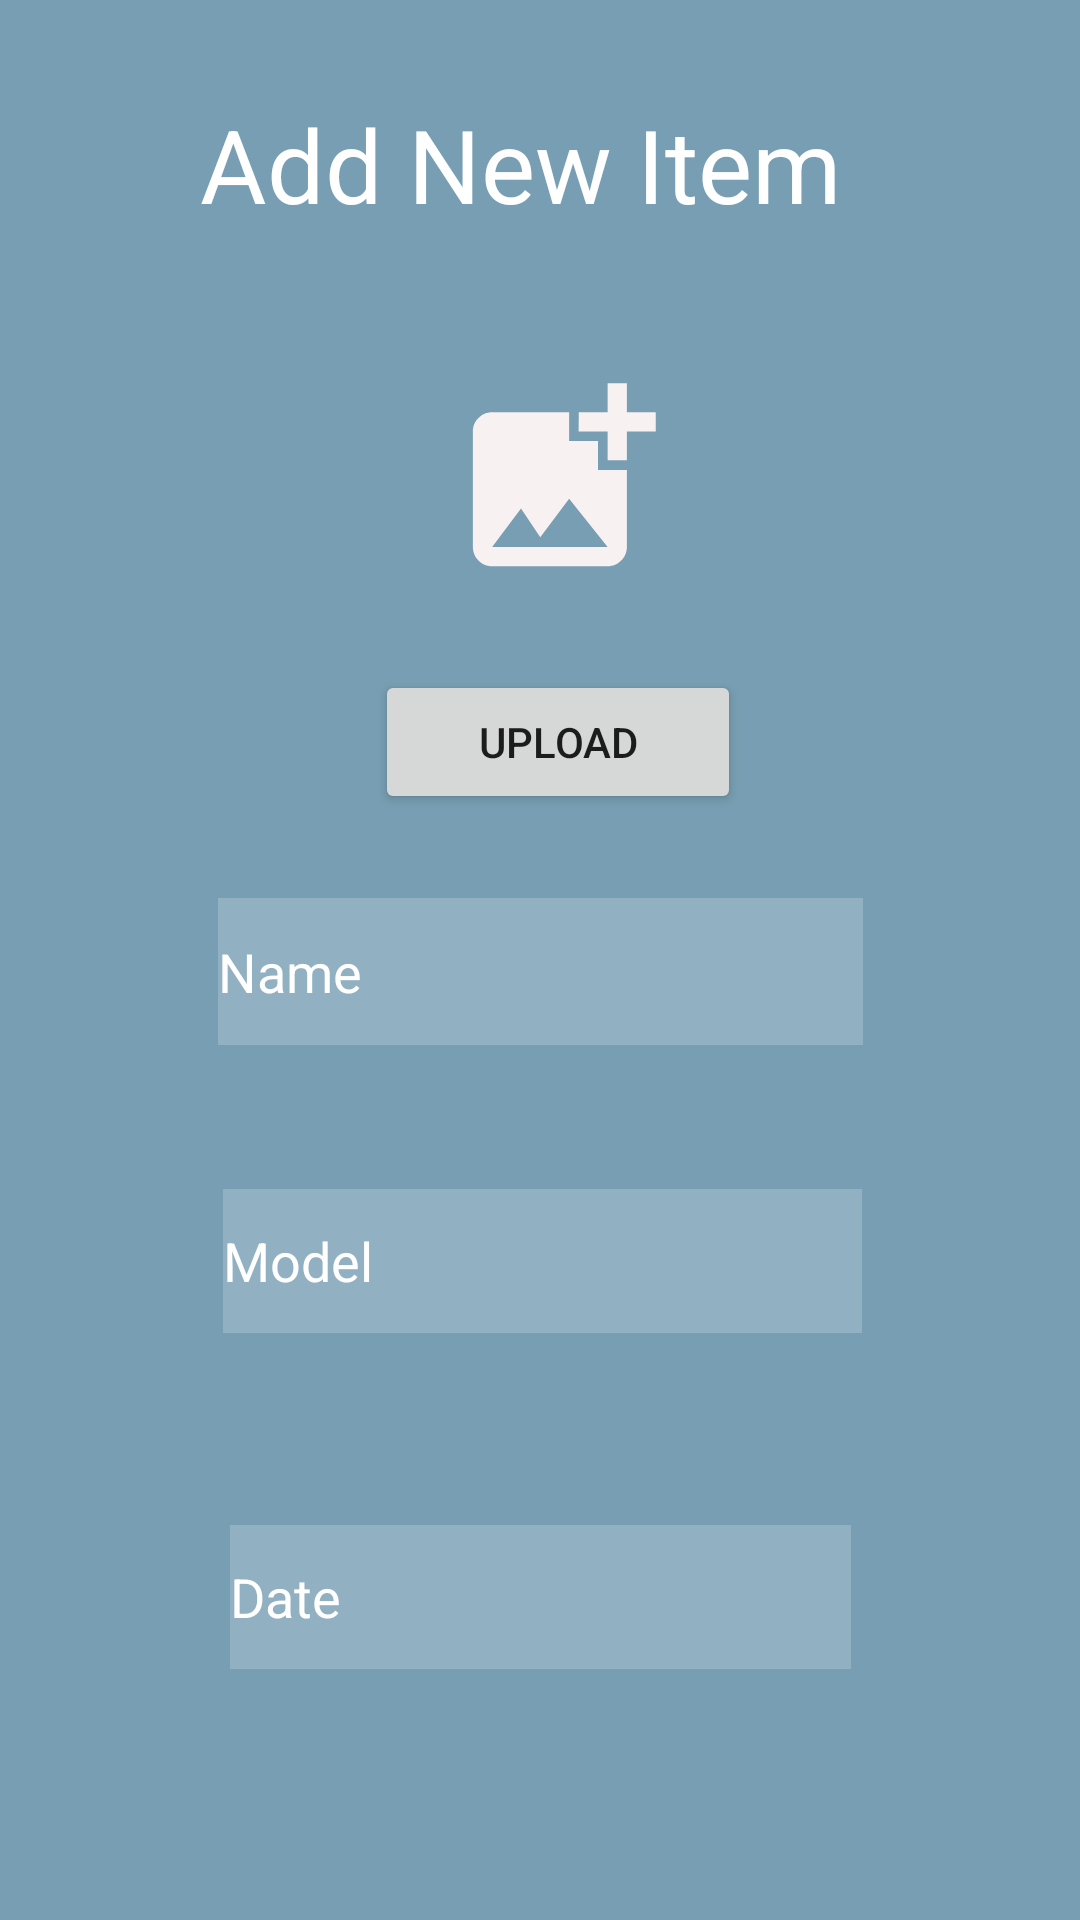

Named icons in this screenshot (1080×1920) and their centers, point (x, y):
add pic: point (564, 475)
